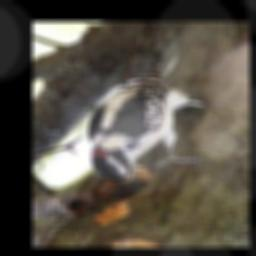Woodpecker: (87, 57, 205, 187)
